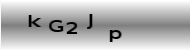2: (65, 21, 79, 35)
G: (46, 17, 65, 33)
J: (85, 12, 95, 31)
k: (27, 13, 43, 29)
p: (109, 28, 123, 43)
